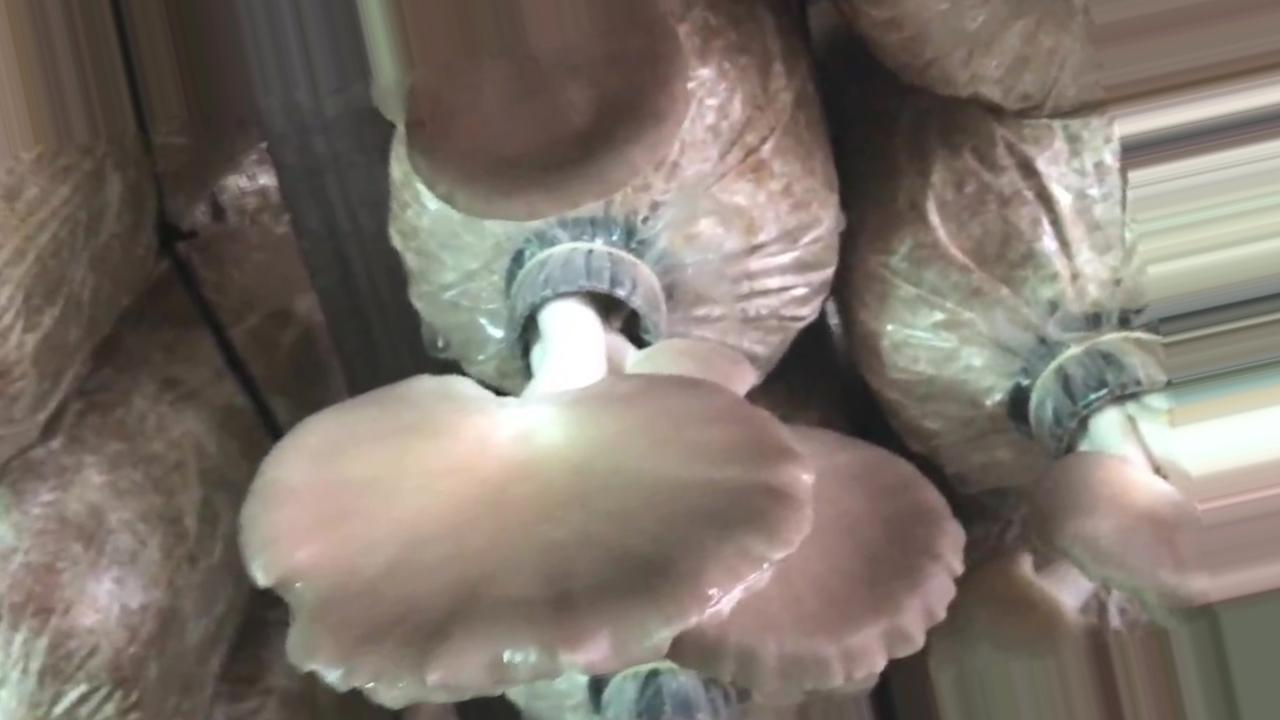nam: (232, 239, 814, 707), (666, 424, 968, 695), (975, 327, 1177, 662), (400, 1, 691, 227)
